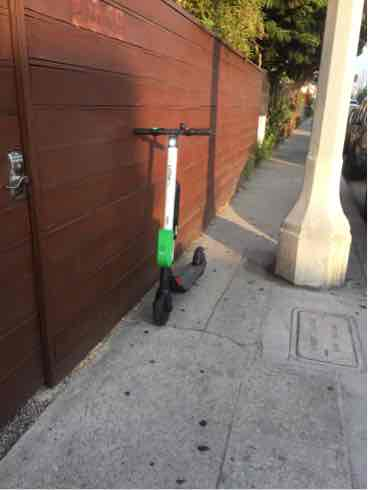scooter: (132, 118, 223, 326)
